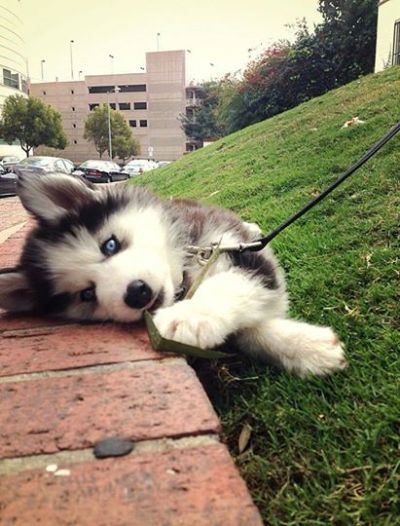husky: (10, 164, 348, 396)
